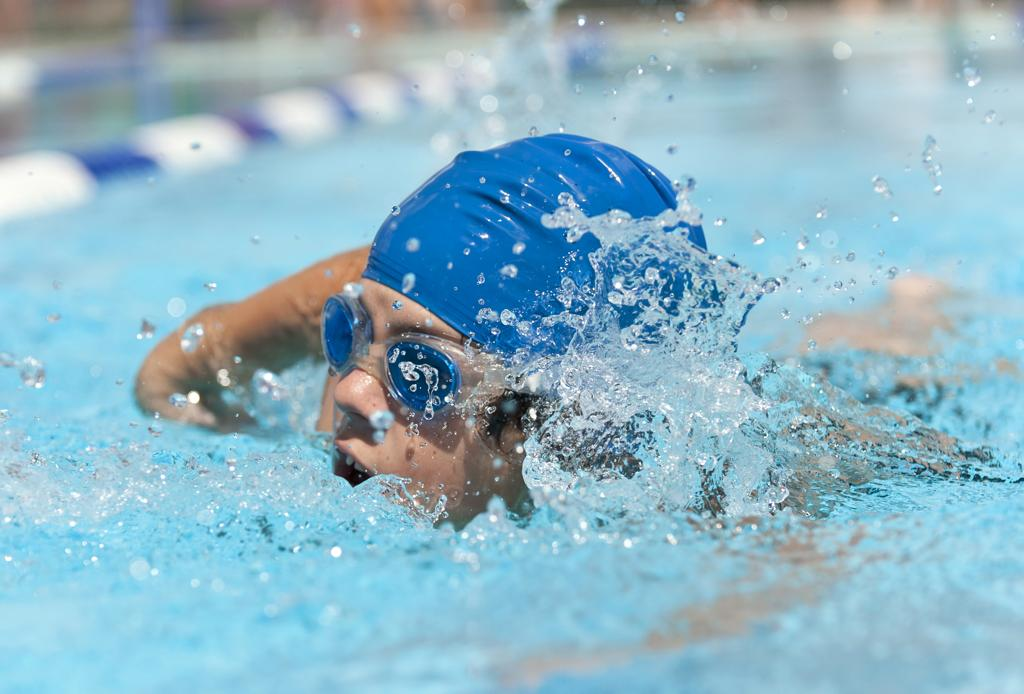face: (304, 276, 498, 558)
